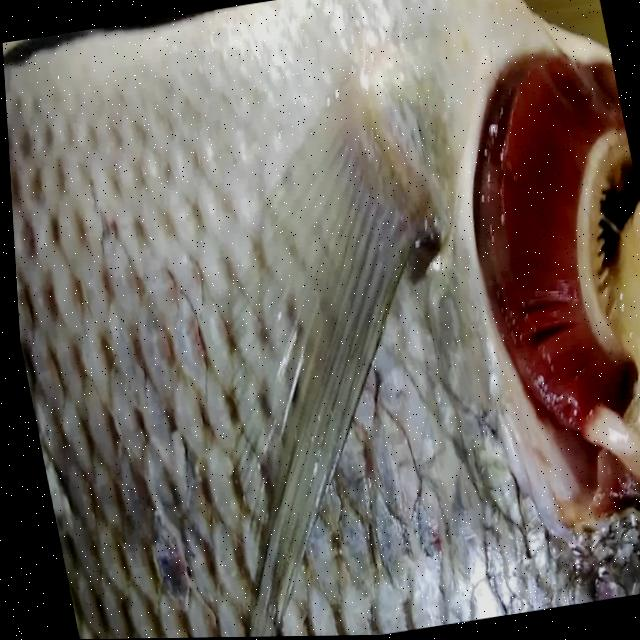Fresh: (408, 45, 640, 495)
